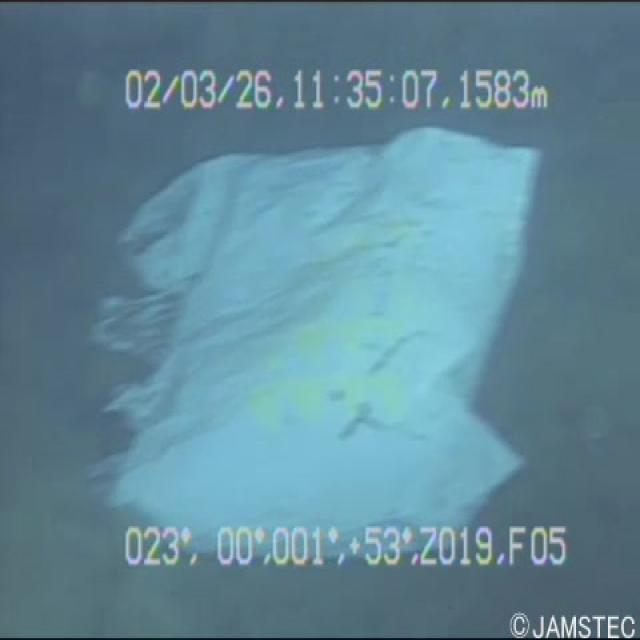plastic: (69, 100, 575, 578)
